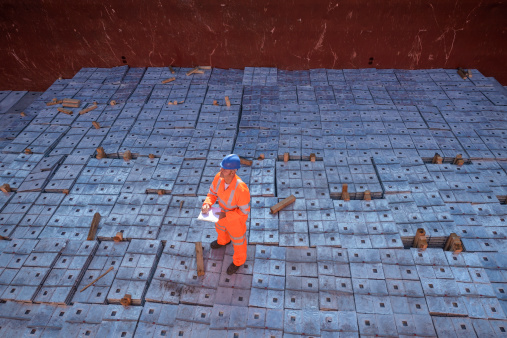em pe: (206, 158, 255, 265)
